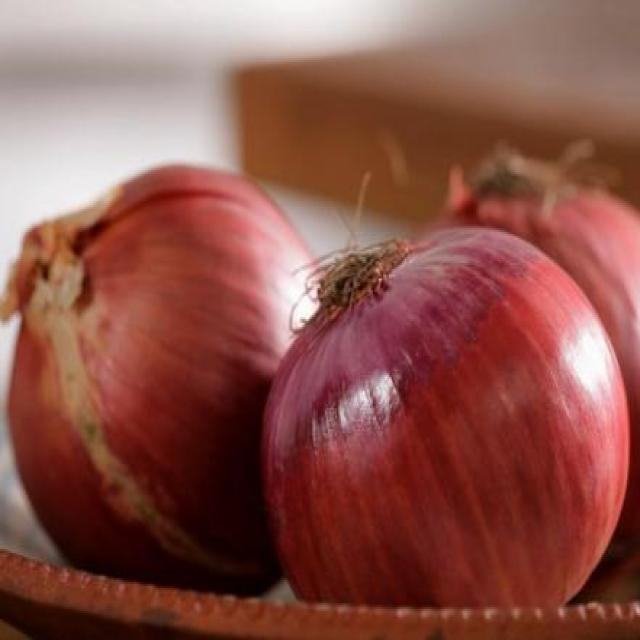onion: (5, 141, 338, 597), (264, 226, 634, 620)
